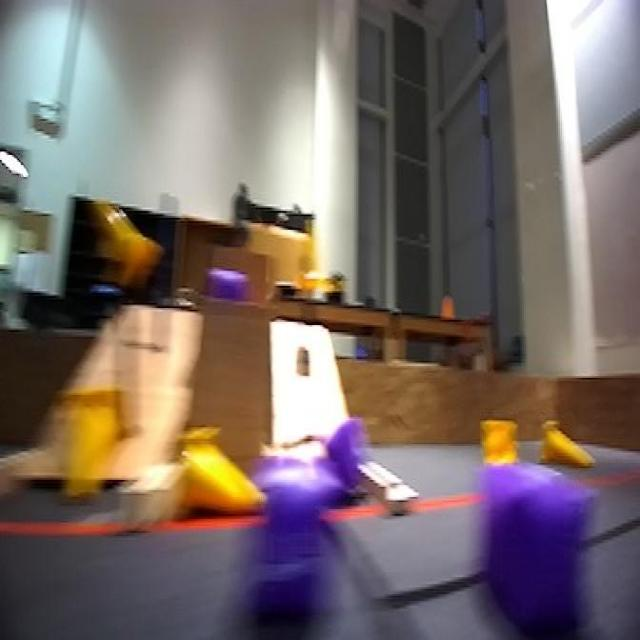frc_cone: (172, 418, 274, 528), (52, 376, 130, 516), (90, 192, 159, 279), (299, 220, 333, 291), (479, 414, 519, 472), (545, 421, 594, 468)
frc_cube: (461, 413, 607, 640), (238, 459, 333, 640), (326, 417, 372, 492), (207, 254, 252, 308)
